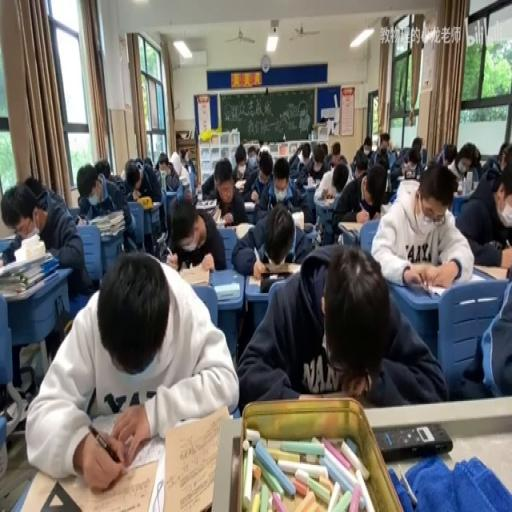calculator: (422, 272, 497, 296), (145, 445, 164, 509), (249, 264, 301, 286), (174, 263, 210, 285), (472, 263, 508, 280), (213, 282, 241, 300), (338, 220, 364, 234), (234, 222, 254, 240), (290, 209, 304, 232), (194, 199, 216, 209), (315, 195, 335, 206), (212, 205, 222, 223), (243, 200, 256, 212), (380, 200, 391, 214), (155, 232, 166, 246), (234, 176, 246, 188), (305, 179, 319, 189), (74, 214, 88, 224), (178, 174, 190, 184), (294, 176, 304, 186), (222, 224, 236, 230), (195, 188, 202, 200), (150, 199, 161, 206), (396, 172, 403, 179)
paper: (28, 250, 238, 488), (236, 243, 442, 410), (373, 160, 476, 288), (0, 178, 91, 301), (231, 194, 314, 272), (77, 160, 134, 254), (164, 194, 224, 272), (332, 161, 386, 239), (204, 156, 248, 225), (123, 156, 162, 206), (244, 151, 274, 212), (302, 142, 332, 182), (394, 142, 424, 182), (480, 142, 504, 176), (352, 134, 371, 168), (24, 175, 46, 200), (286, 142, 304, 171), (438, 142, 456, 169), (465, 144, 481, 168), (93, 158, 111, 179), (374, 148, 388, 169), (156, 152, 170, 172), (165, 170, 179, 190), (178, 145, 190, 166), (456, 156, 470, 174), (378, 134, 390, 152), (234, 155, 245, 174), (247, 146, 258, 165), (411, 136, 421, 154), (125, 168, 135, 183), (142, 156, 152, 170), (388, 150, 397, 164), (260, 144, 270, 156), (332, 148, 339, 162), (338, 155, 347, 165), (134, 158, 142, 168), (120, 168, 126, 180)
person: (373, 424, 451, 461)
